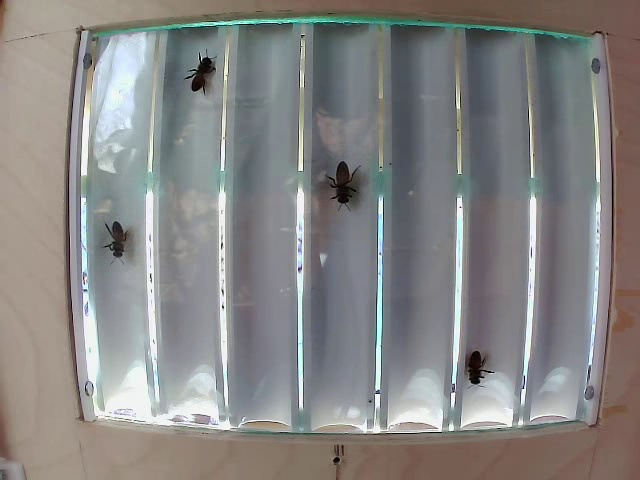bee: (316, 151, 361, 204), (190, 47, 223, 105), (93, 214, 129, 265), (448, 347, 494, 380)
